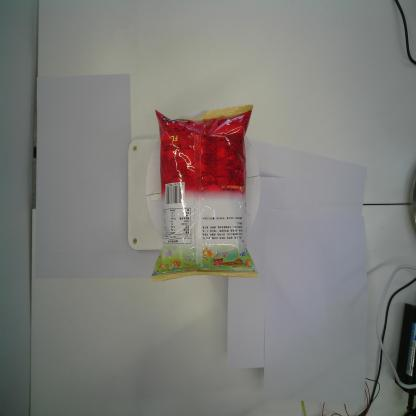Puffed Food: (150, 103, 258, 284)
